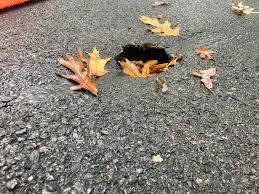alligator-crack: (1, 102, 135, 194)
pothole: (113, 44, 179, 78)
